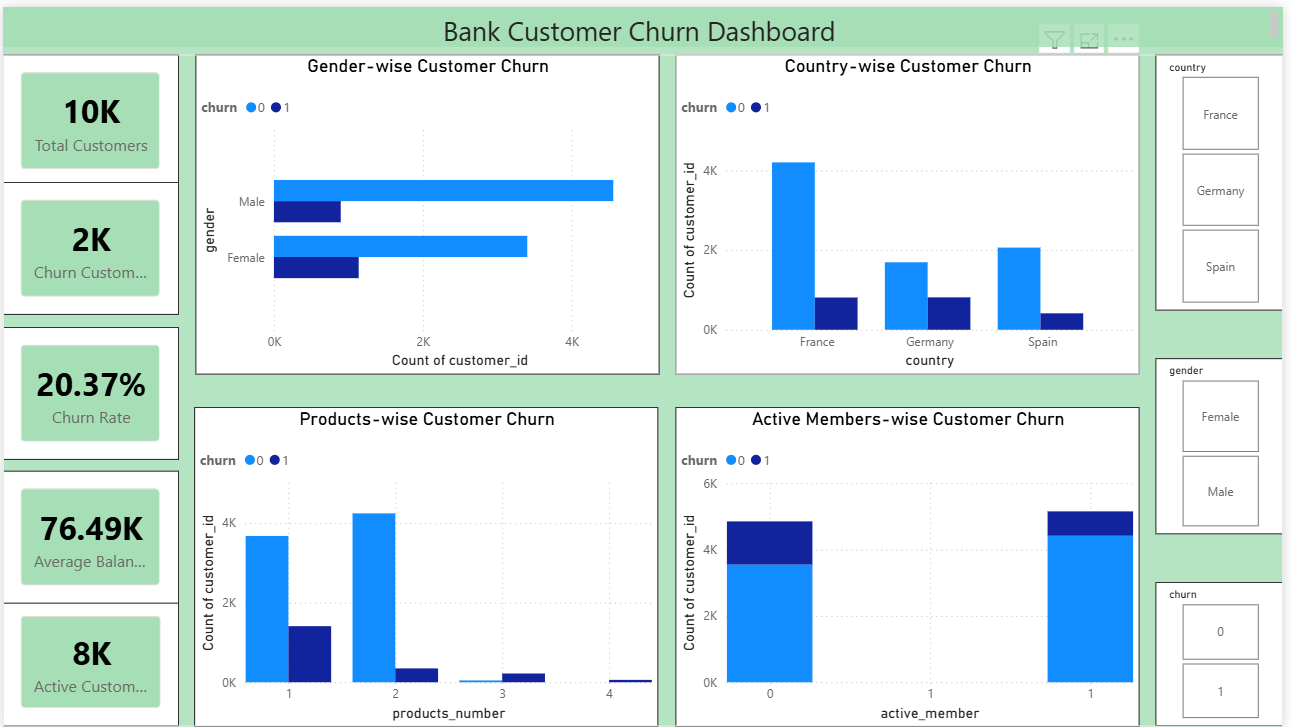

Layout of this report page (visuals, bound fields, positions):
{"tool":"powerbi","page":{"name":"Page 1","canvas":[1280,720],"ordinal":0},"visuals":[{"type":"cardVisual","fields":{"Data":["Bank Customer Churn Prediction.Active Customers"]},"box":[0,592,176,128],"z":0,"group":"g1"},{"type":"cardVisual","fields":{"Data":["Bank Customer Churn Prediction.Average Balance"]},"box":[0,464,175.6,133.1],"z":1000,"group":"g1"},{"type":"cardVisual","fields":{"Data":["Bank Customer Churn Prediction.Churn Rate"]},"box":[0,320,175.6,133],"z":2000,"group":"g1"},{"type":"cardVisual","fields":{"Data":["Bank Customer Churn Prediction.Total Customers"]},"box":[0,48,175.6,133.1],"z":3000,"group":"g1"},{"type":"cardVisual","fields":{"Data":["Bank Customer Churn Prediction.Churn Customers"]},"box":[0,176,175.6,133.1],"z":4000,"group":"g1"},{"type":"clusteredColumnChart","title":"Country-wise Customer Churn","fields":{"Category":["Bank Customer Churn Prediction.country"],"Series":["Bank Customer Churn Prediction.churn"],"Y":["CountNonNull(Bank Customer Churn Prediction.customer_id)"]},"box":[672,48,464,320],"z":5000,"group":"g1"},{"type":"columnChart","title":"Active Members-wise Customer Churn","fields":{"Category":["Bank Customer Churn Prediction.active_member"],"Series":["Bank Customer Churn Prediction.churn"],"Y":["CountNonNull(Bank Customer Churn Prediction.customer_id)"]},"box":[672,400,464,320],"z":6000,"group":"g1"},{"type":"clusteredColumnChart","title":"Products-wise Customer Churn","fields":{"Series":["Bank Customer Churn Prediction.churn"],"Y":["CountNonNull(Bank Customer Churn Prediction.customer_id)"],"Category":["Bank Customer Churn Prediction.products_number"]},"box":[191.6,400,464,320],"z":7000},{"type":"clusteredBarChart","title":"Gender-wise Customer Churn","fields":{"Category":["Bank Customer Churn Prediction.gender"],"Series":["Bank Customer Churn Prediction.churn"],"Y":["CountNonNull(Bank Customer Churn Prediction.customer_id)"]},"box":[192,48,464,320],"z":8000,"group":"g1"},{"type":"slicer","title":"Country","fields":{"Values":["Bank Customer Churn Prediction.country"]},"box":[1152,48,128,256],"z":9000,"group":"g1"},{"type":"slicer","fields":{"Values":["Bank Customer Churn Prediction.churn"]},"box":[1152,576,128,144],"z":10000,"group":"g1"},{"type":"slicer","title":"Gender","fields":{"Values":["Bank Customer Churn Prediction.gender"]},"box":[1152,352,128,176],"z":11000,"group":"g1"},{"type":"group","id":"g1","title":"Group 1","box":[0,48,1280,672],"z":11001},{"type":"textbox","box":[0,0,1280,40],"z":11002}]}

Visuals, with their boxes in screenshot pixels (x1, y1, x2, y2), scaled from the page's 1280x720 canvas onto the 1292x727 screenshot:
cardVisual - Bank Customer Churn Prediction.Active Customers: 0:598:178:726
cardVisual - Bank Customer Churn Prediction.Average Balance: 0:469:177:603
cardVisual - Bank Customer Churn Prediction.Churn Rate: 0:323:177:457
cardVisual - Bank Customer Churn Prediction.Total Customers: 0:48:177:183
cardVisual - Bank Customer Churn Prediction.Churn Customers: 0:178:177:312
"Country-wise Customer Churn" clusteredColumnChart: 678:48:1147:372
"Active Members-wise Customer Churn" columnChart: 678:404:1147:726
"Products-wise Customer Churn" clusteredColumnChart: 193:404:662:726
"Gender-wise Customer Churn" clusteredBarChart: 194:48:662:372
"Country" slicer: 1163:48:1291:307
slicer - Bank Customer Churn Prediction.churn: 1163:582:1291:726
"Gender" slicer: 1163:355:1291:533
"Group 1" group: 0:48:1291:726
textbox: 0:0:1291:40
